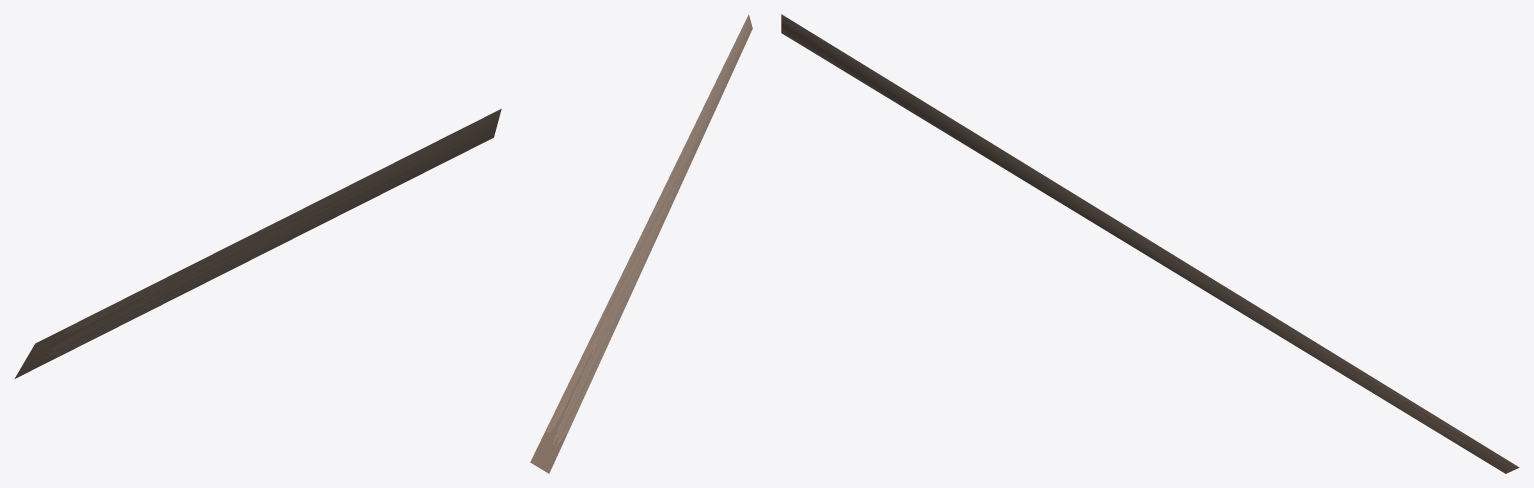
Rendered from kd_stage_135ded_4_52_bounded_piece_5.glb.
3 views of the same model, side by side, from view 1: azimuth 30°, elevation 25°; view 2: azimuth 150°, elevation 25°; view 3: azimuth 270°, elevation 25° (orthographic). The views are drawn at different scales.
Parts seen in each view (by area): view 1: kd_stage_135ded_4_52_bounded_piece_5; view 2: kd_stage_135ded_4_52_bounded_piece_5; view 3: kd_stage_135ded_4_52_bounded_piece_5.
Part boxes in pixels (bbox=[...]): kd_stage_135ded_4_52_bounded_piece_5: bbox=[14, 109, 501, 378]; kd_stage_135ded_4_52_bounded_piece_5: bbox=[530, 14, 752, 473]; kd_stage_135ded_4_52_bounded_piece_5: bbox=[781, 14, 1519, 473].
Bounding box in the file's own units: 0.0375 × 0.4756 × 0.6666.
1 material, 1 textured.
